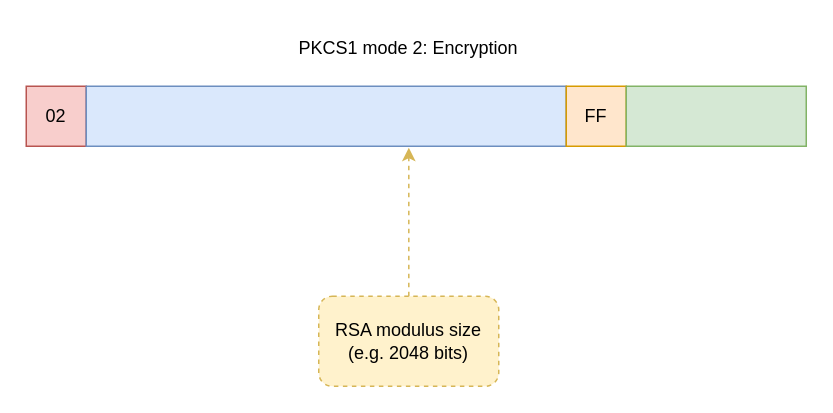
Some shapes in this 833 by 413 pixel diagram are drawn without their labels. The shapes that lost their labels are listed below. From the top down, each one's centre as x and y in pixels, then its label:
point 325,115: random pad
point 715,115: msg
